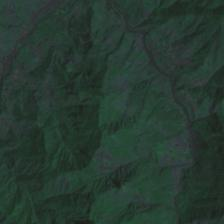landslides: (106, 152, 121, 163), (120, 191, 131, 204), (30, 183, 46, 191), (110, 174, 118, 188), (107, 168, 121, 176), (122, 166, 130, 179)
